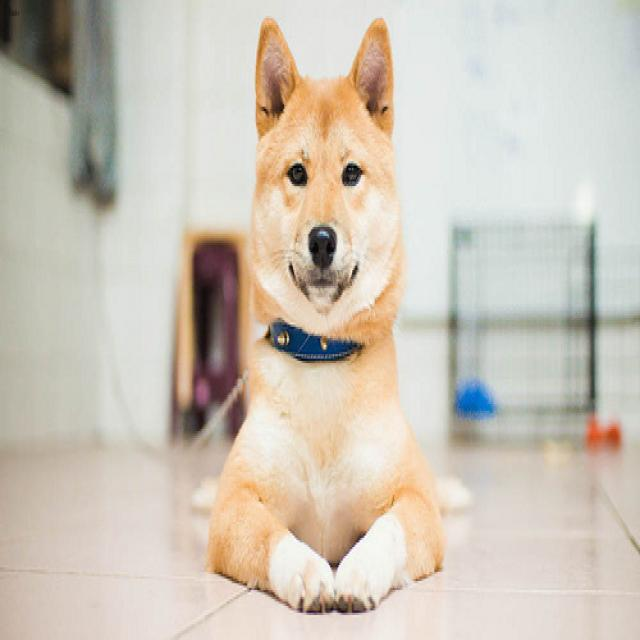dog-shiba_inu: (186, 2, 479, 624)
